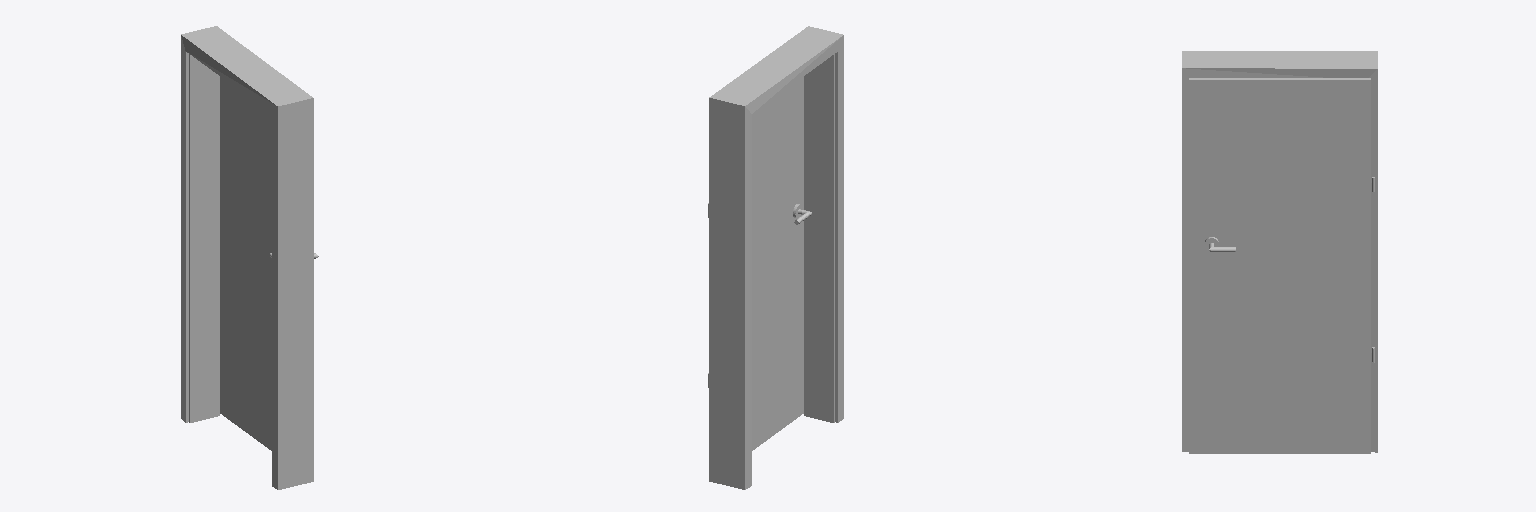
Rendered from door5.obj.
The picture shows the model from 3 angles: view 1: azimuth 30°, elevation 25°; view 2: azimuth 150°, elevation 25°; view 3: azimuth 270°, elevation 25°; orthographic projection.
Parts seen in each view (by area): view 1: Cylinder.005, Cylinder.001; view 2: Cylinder.005, Cylinder.001; view 3: Cylinder.001, Cylinder.005.
Boxes of the visible parts, <box> form: Cylinder.005: <box>181,26,313,489</box>; Cylinder.001: <box>220,77,271,450</box>; Cylinder.005: <box>708,26,843,489</box>; Cylinder.001: <box>708,77,803,450</box>; Cylinder.001: <box>1189,78,1374,453</box>; Cylinder.005: <box>1182,51,1377,452</box>.
Bounding box in the file's own units: 0.3039 × 2.05 × 0.95.